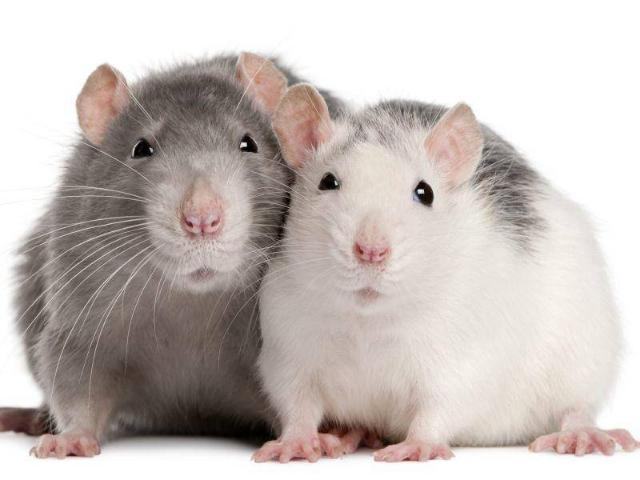rat: (245, 78, 622, 466), (45, 39, 331, 308)
